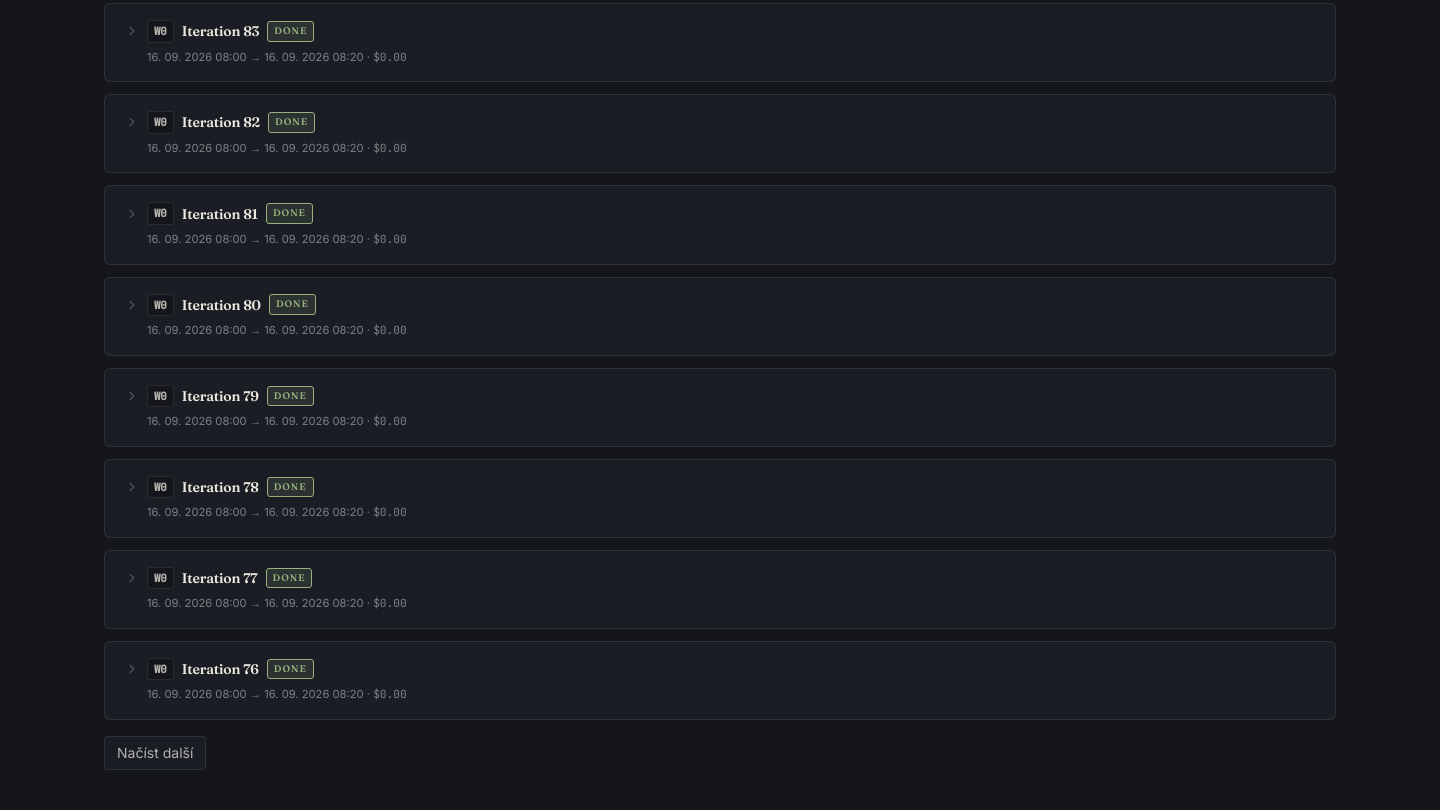
Test: <AutodedupProgress> › loads the next page by the cursor the previous page returned
The image size is (1440, 810).
(page scrolled)
Click the button "Načíst další" at {"x": 155, "y": 753}, box [104,736,206,770]
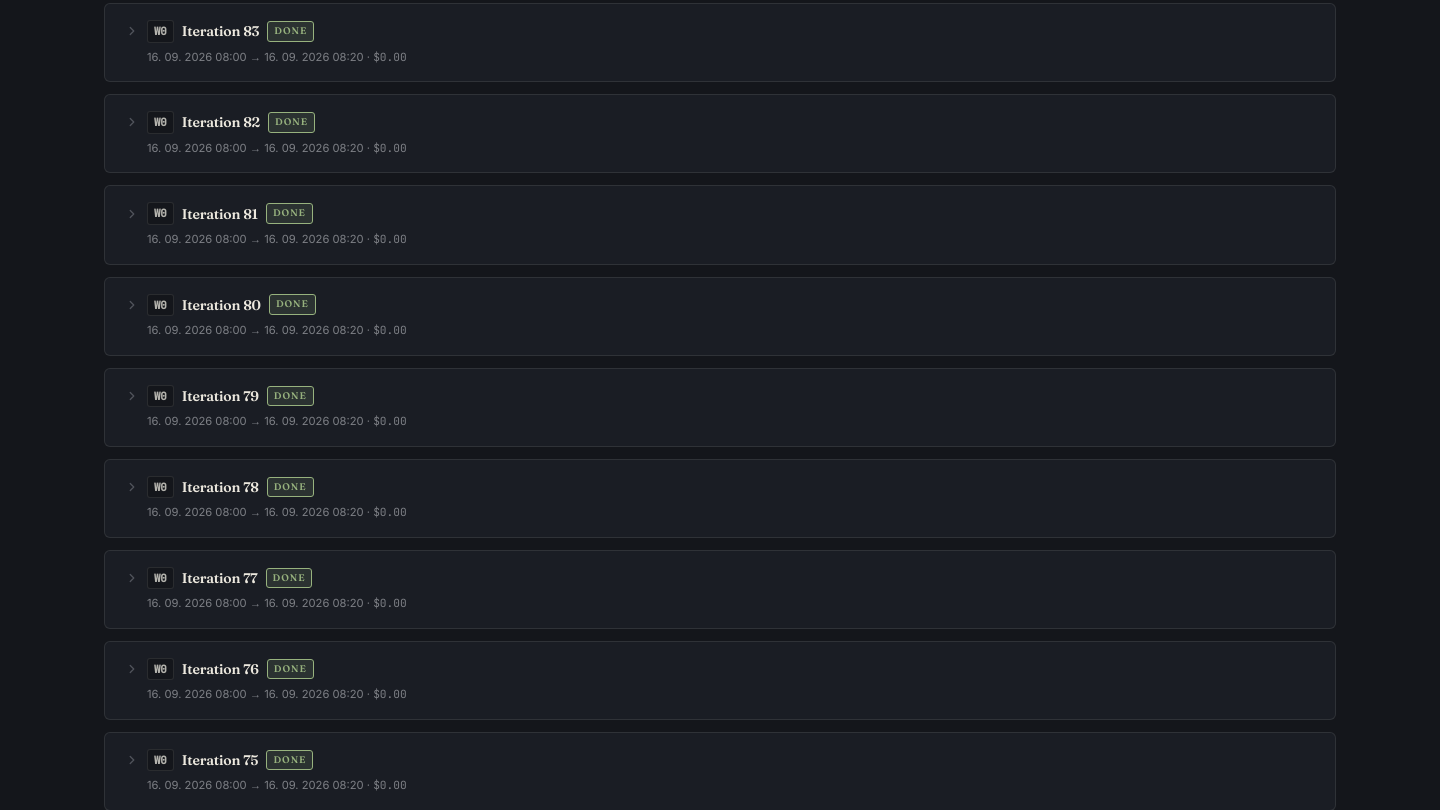
Expected: the text "Iteration 75" is shown, [182,750,258,770]
Expected: the button "Načíst další" is gone
